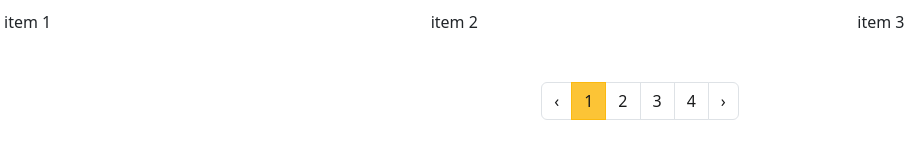
Test case: changes the page correctly when clicking the next and previous buttons
The width and height of the screenshot is (921, 160).
Expected: the element with test id "ListWithPagination.Pagination.Item.1.Active" is shown, x1=571 y1=82 x2=606 y2=120
Step 1. Click the button with test id "ListWithPagination.Pagination.Next" → (723, 101), box x1=708 y1=82 x2=739 y2=120
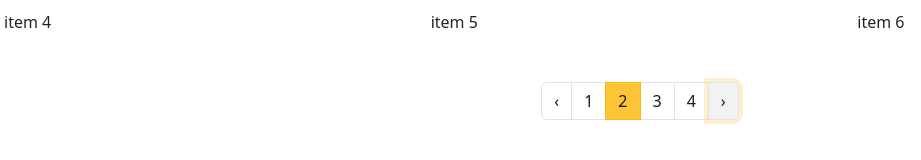
Step 2. Click the button with test id "ListWithPagination.Pagination.Prev" → (557, 101), box x1=541 y1=82 x2=572 y2=120
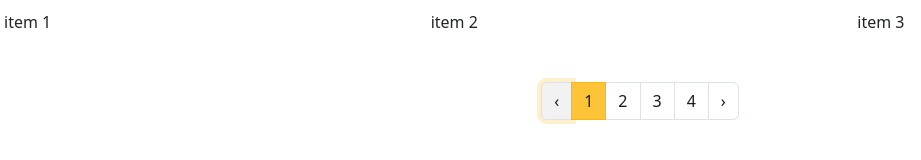
Expected: the element with test id "ListWithPagination.Pagination.Item.1.Active" is shown, x1=571 y1=82 x2=606 y2=120
